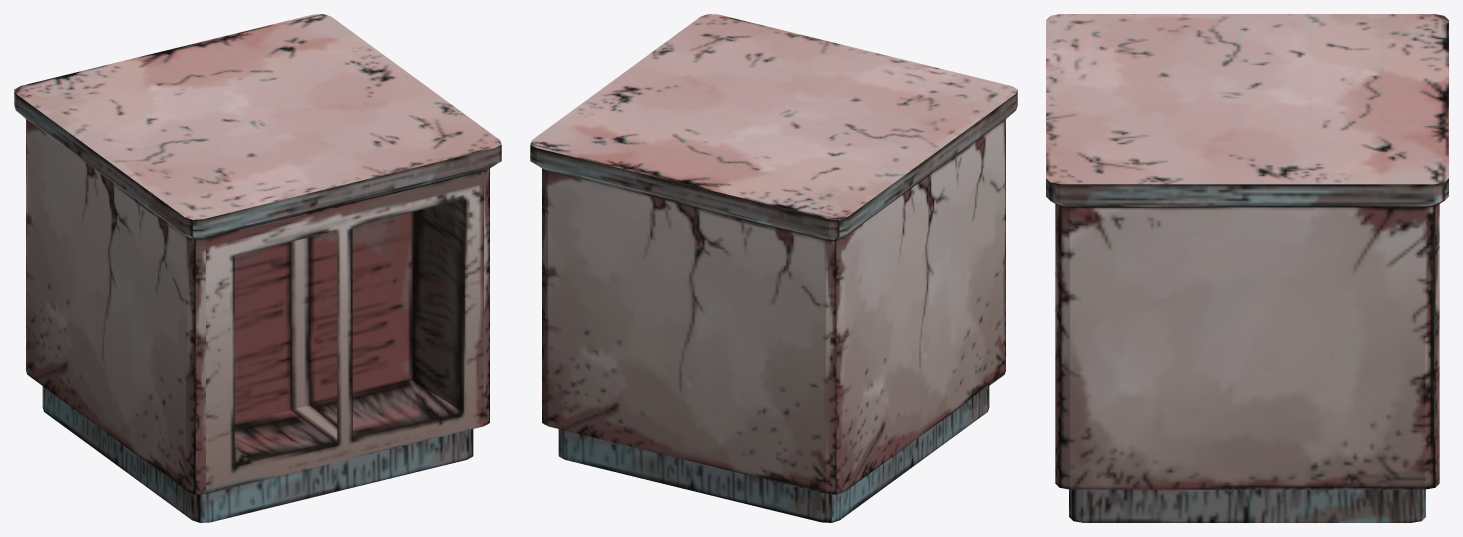
The model's file is CounterTop2.fbx.
3 views of the same model, side by side, from view 1: azimuth 30°, elevation 25°; view 2: azimuth 150°, elevation 25°; view 3: azimuth 270°, elevation 25° (orthographic). The views are drawn at different scales.
Visible parts, largest first — view 1: CounterTop2; view 2: CounterTop2; view 3: CounterTop2.
Boxes of the visible parts, left/top/right/bottom form: CounterTop2: left=14, top=14, right=501, bottom=522; CounterTop2: left=530, top=14, right=1017, bottom=522; CounterTop2: left=1046, top=14, right=1448, bottom=522.
Bounding box in the file's own units: 96.14 × 91.71 × 96.14.
